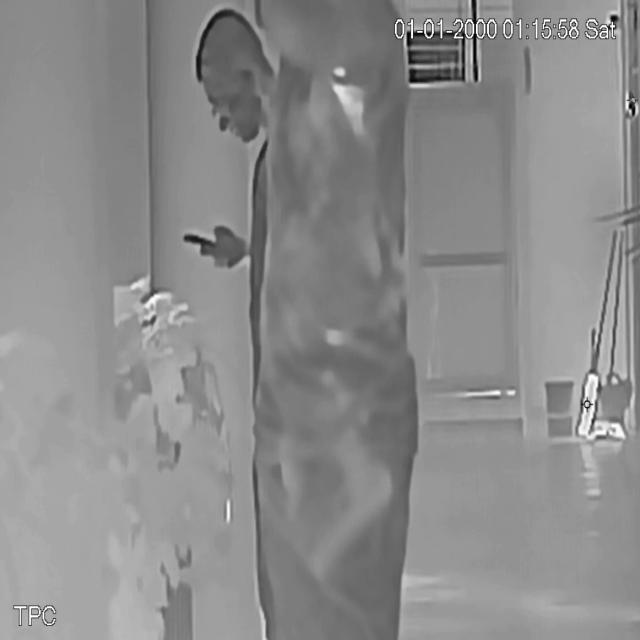Weapon: (297, 414, 401, 594)
